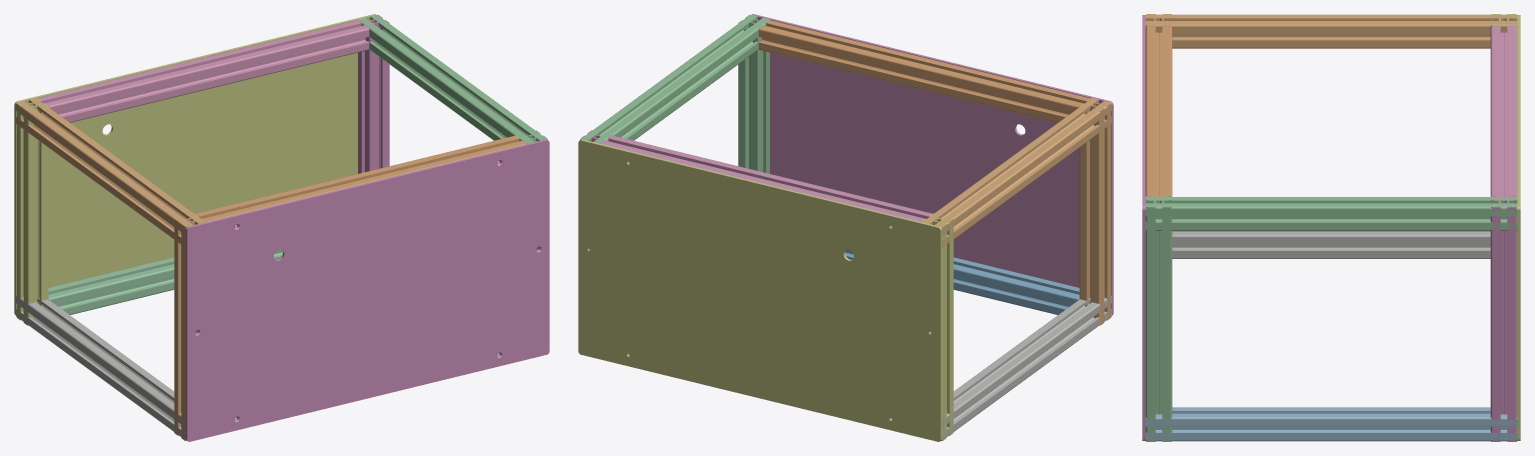
File: case-06_gpt55.glb
The picture shows the model from 3 angles, left to right: view 1: azimuth 30°, elevation 25°; view 2: azimuth 150°, elevation 25°; view 3: azimuth 270°, elevation 25°; orthographic projection. The views are drawn at different scales.
Visible parts, largest first — view 1: c00002, c00001, c00007, c00003, c00005, c00004, c00011, c00008, c00012, c00009, c00013; view 2: c00001, c00002, c00009, c00003, c00004, c00005, c00013, c00010, c00014, c00007, c00011; view 3: c00004, c00006, c00003, c00005, c00014, c00012, c00007, c00009, c00001, c00002.
Boxes of the visible parts, x1,y1,x2,y2 form: c00002: (185, 139, 549, 441); c00001: (14, 14, 376, 315); c00007: (38, 20, 369, 122); c00003: (16, 98, 204, 247); c00005: (16, 296, 186, 440); c00004: (359, 15, 547, 143); c00011: (16, 98, 48, 325); c00008: (48, 249, 282, 314); c00012: (358, 14, 389, 173); c00009: (196, 135, 526, 227); c00013: (174, 213, 205, 441); c00001: (578, 139, 942, 441); c00002: (751, 14, 1113, 315); c00009: (758, 20, 1089, 122); c00003: (923, 98, 1111, 247); c00004: (580, 15, 768, 143); c00005: (941, 296, 1111, 440); c00013: (1079, 98, 1111, 325); c00010: (845, 249, 1079, 314); c00014: (738, 14, 769, 173); c00007: (601, 135, 931, 227); c00011: (922, 213, 953, 441); c00004: (1145, 197, 1517, 230); c00006: (1145, 407, 1517, 441); c00003: (1145, 14, 1517, 48); c00005: (1172, 231, 1490, 258); c00014: (1145, 196, 1172, 441); c00012: (1490, 196, 1517, 441); c00007: (1490, 25, 1517, 196); c00009: (1145, 25, 1172, 196); c00001: (1517, 15, 1520, 440); c00002: (1142, 15, 1145, 440).
Bounding box in the file's own units: 690 × 390 × 570.
